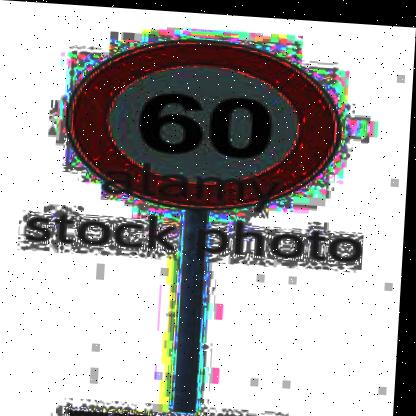Speed Limit -60-: (64, 29, 352, 217)
